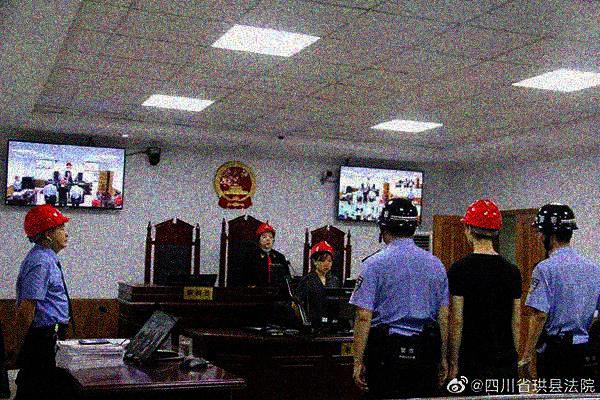helmet: (22, 202, 70, 252), (529, 201, 579, 249), (458, 197, 505, 247), (376, 197, 419, 247), (308, 240, 334, 275), (254, 223, 276, 248)
